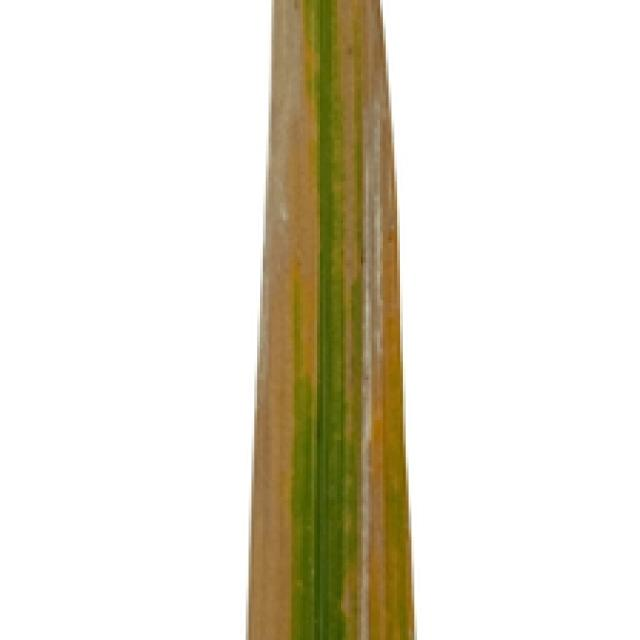Rice___Bacterial_Leaf_Blight: (243, 0, 415, 637)
